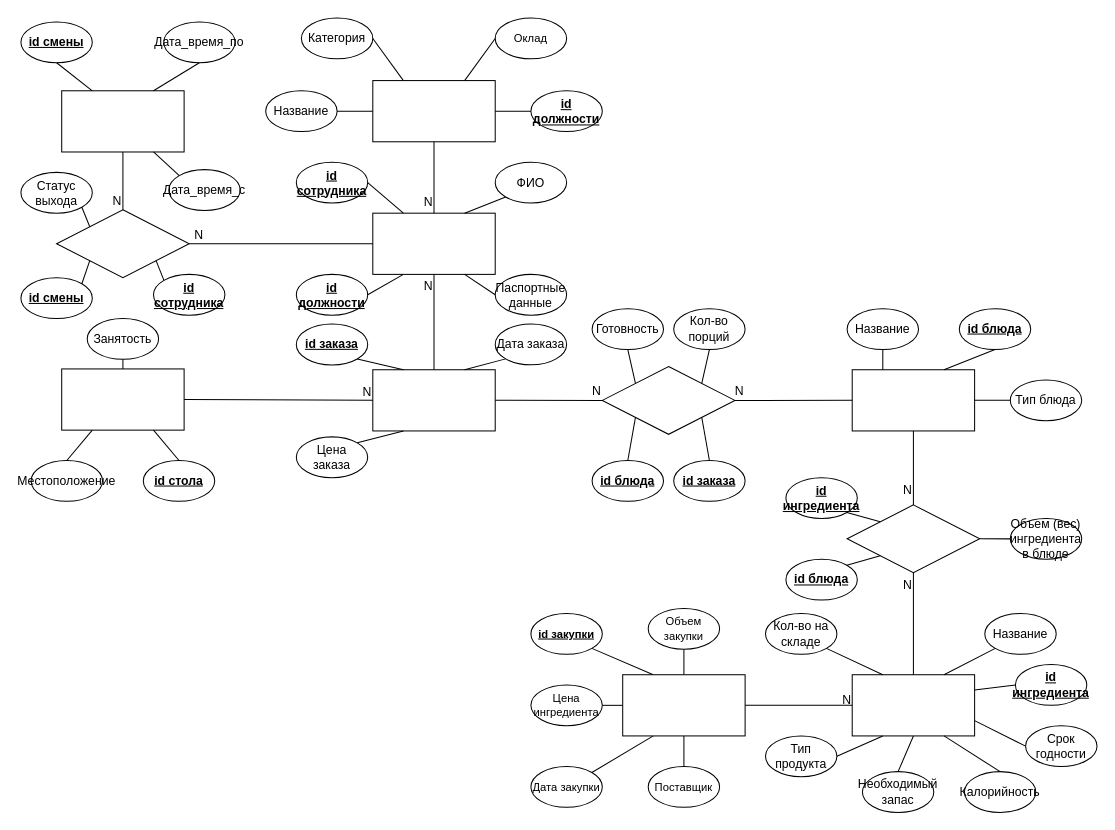
This 1115x830 diagram has some shape labels left out. The box of each missing label's shape, as (x1, y1, x2, y2) in pixels:
Блюдо: (851, 369, 975, 431)
График работы: (56, 209, 189, 278)
Должность: (372, 80, 495, 142)
Заказ: (372, 369, 495, 431)
Закупка: (622, 674, 745, 736)
Ингредиент: (851, 674, 975, 736)
Смена: (61, 90, 184, 152)
Состав блюда: (846, 504, 980, 573)
Состав заказа: (601, 365, 735, 434)
Сотрудник: (372, 212, 495, 274)
Стол: (61, 368, 184, 430)
